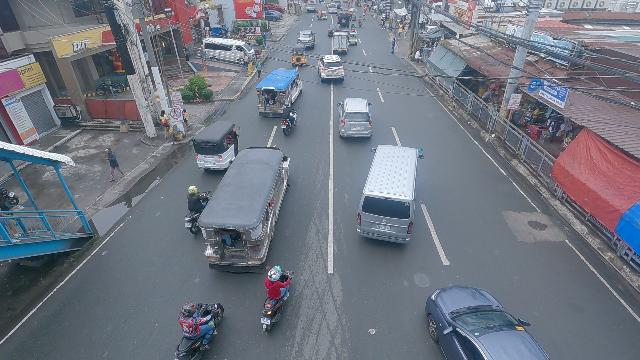car: (421, 283, 554, 360), (337, 97, 375, 140), (317, 55, 346, 83), (296, 30, 315, 50), (327, 23, 341, 38), (264, 10, 283, 21)
jeepney: (198, 147, 291, 271), (257, 68, 303, 117)
motorcycle: (172, 300, 225, 360), (257, 267, 295, 332), (180, 188, 211, 239), (280, 106, 298, 136), (358, 15, 362, 27)
truck: (330, 32, 349, 55), (306, 1, 318, 13), (348, 31, 358, 45)
van: (355, 145, 422, 247), (201, 36, 257, 66), (337, 12, 351, 28)
